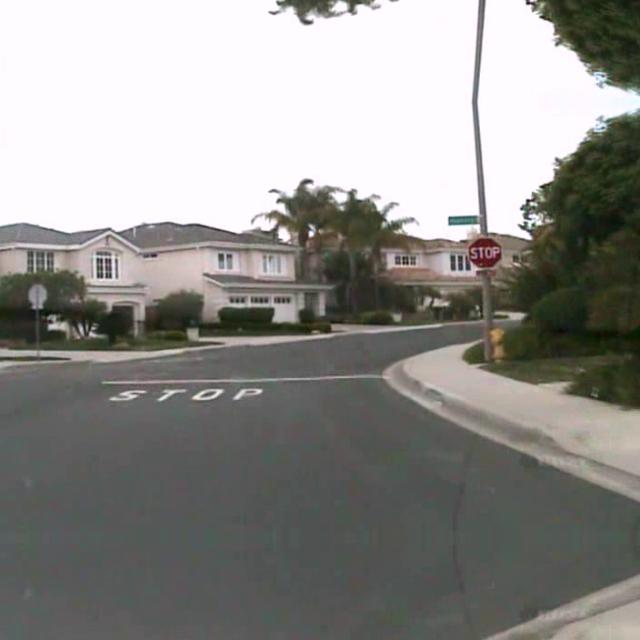stop: (466, 235, 502, 267)
